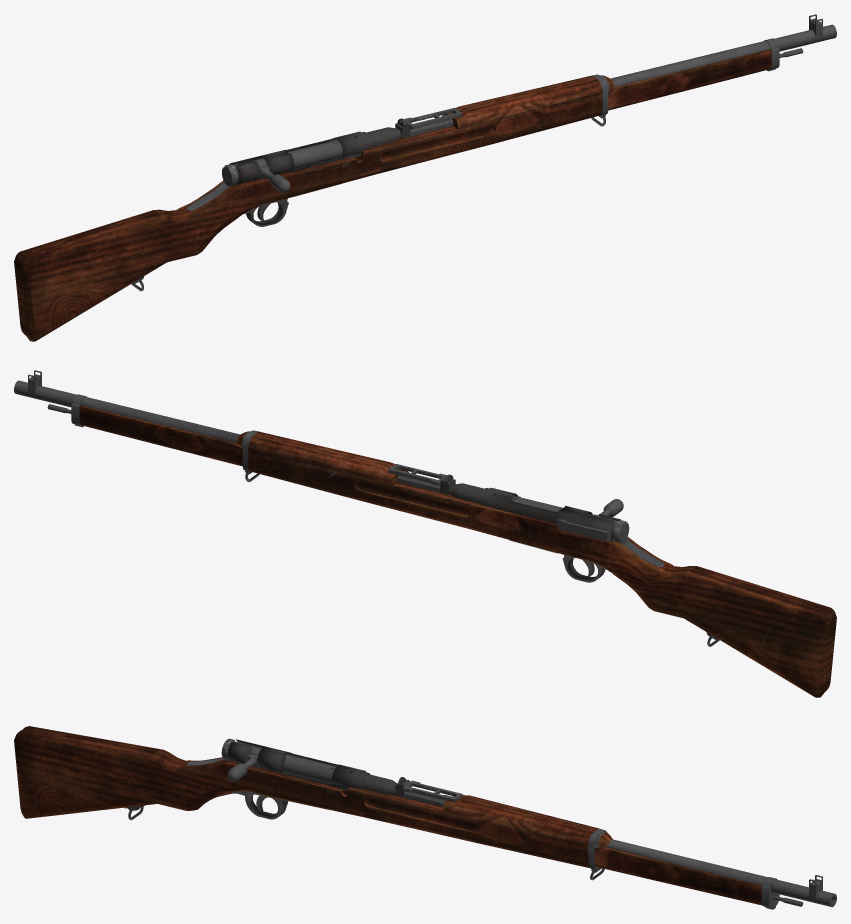
File: Gun.fbx
3 renders of one model, top to bottom at view 1: azimuth 30°, elevation 25°; view 2: azimuth 150°, elevation 25°; view 3: azimuth 330°, elevation 25°, orthographic.
Parts seen in each view (by area): view 1: All_Wood, Front_Barrel, Bolt_Part, End_Barrel; view 2: All_Wood, Front_Barrel, End_Barrel, Bolt_Part; view 3: All_Wood, Front_Barrel, Bolt_Part, End_Barrel, Receiver2.
Part boxes in pixels (<box>): All_Wood: <box>14,75,602,341</box>; Front_Barrel: <box>592,38,803,118</box>; Bolt_Part: <box>222,139,342,192</box>; End_Barrel: <box>774,14,836,51</box>; All_Wood: <box>248,431,836,697</box>; Front_Barrel: <box>47,394,258,474</box>; End_Barrel: <box>14,370,76,407</box>; Bolt_Part: <box>511,495,629,542</box>; All_Wood: <box>14,726,598,867</box>; Front_Barrel: <box>588,828,803,909</box>; Bolt_Part: <box>221,738,336,783</box>; End_Barrel: <box>771,875,836,907</box>; Receiver2: <box>207,791,327,819</box>.
Bounding box in the file's own units: 474679 × 73396 × 36461.
1 material, 1 textured.
